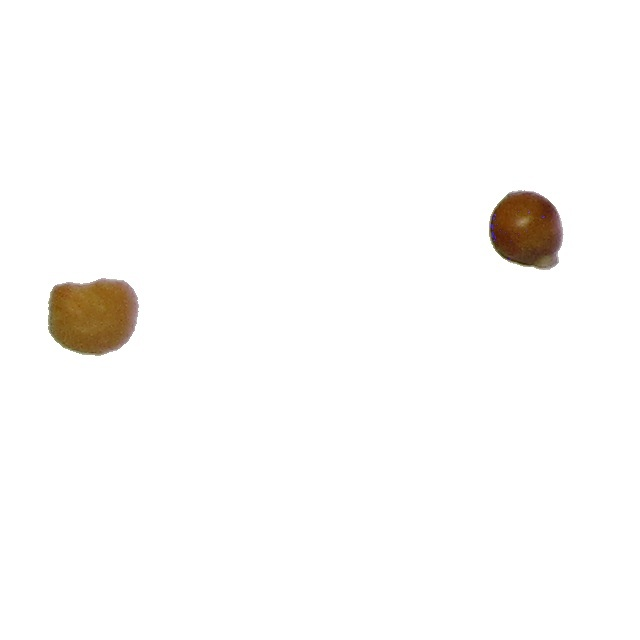mais: (47, 277, 140, 357), (488, 189, 565, 271)
